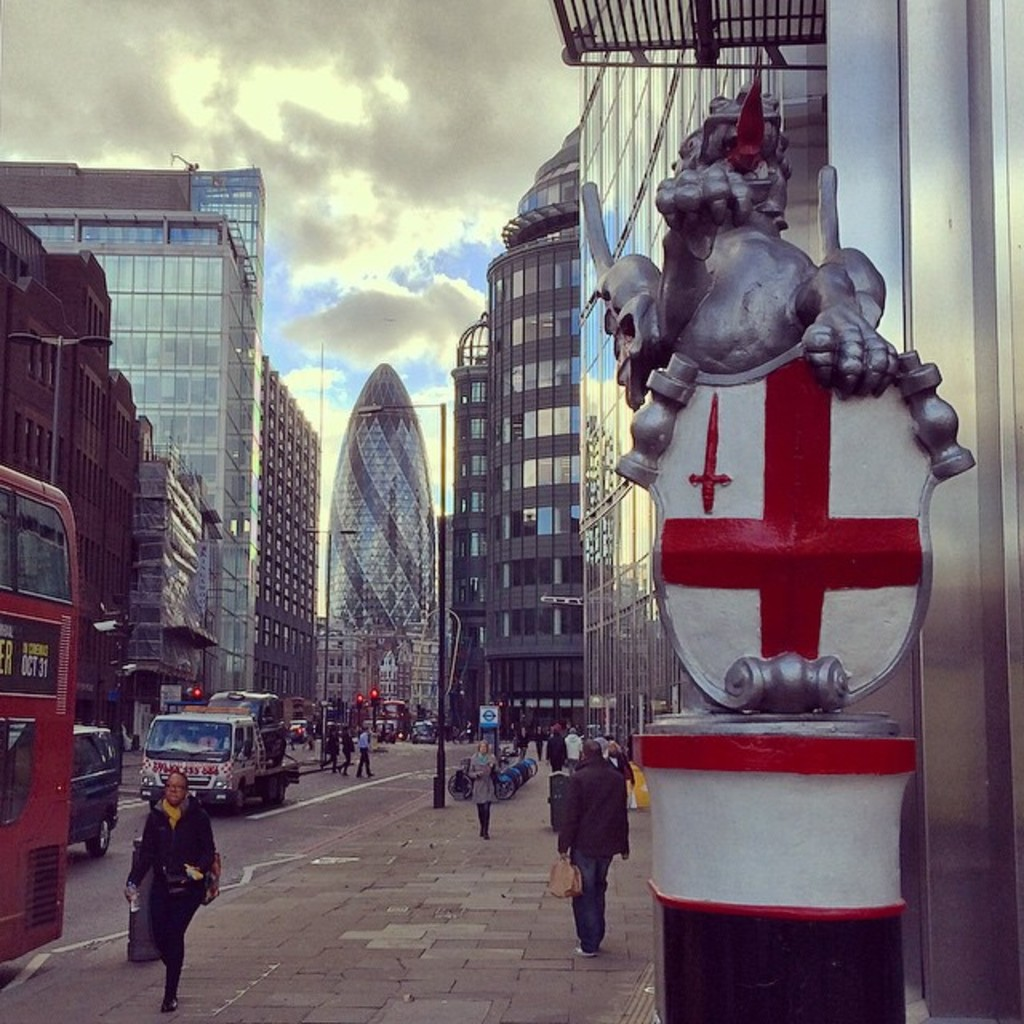mobil: (144, 711, 304, 802)
